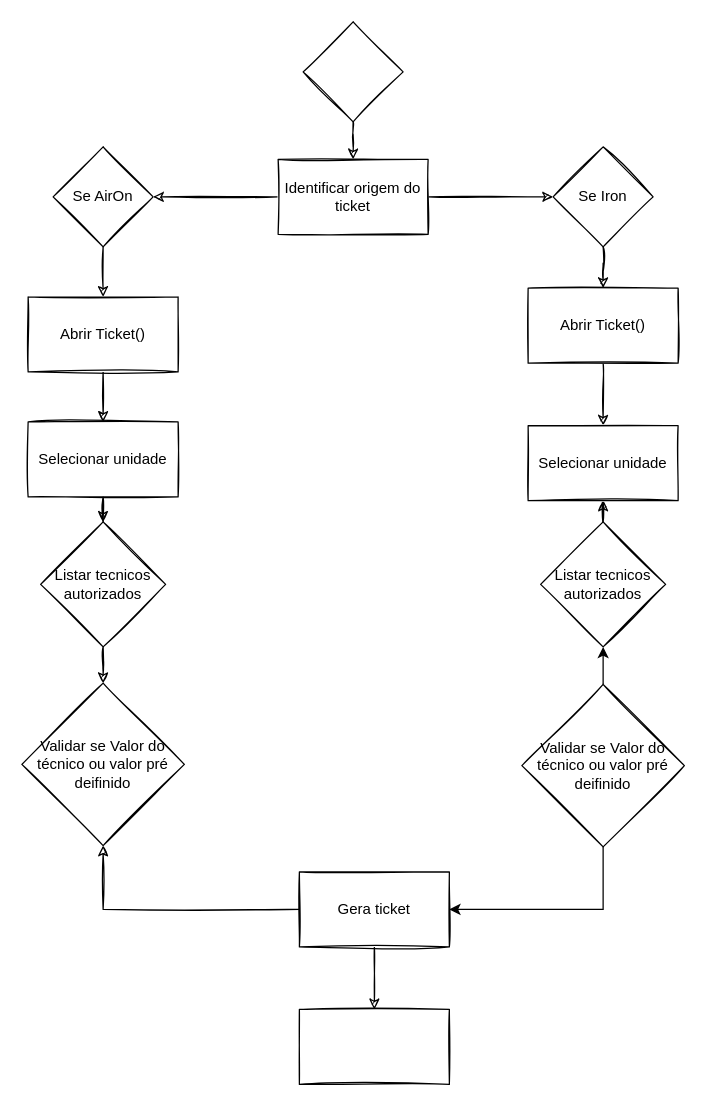
The diagram is 706 pixels wide and 1106 high, and some of its shapes have lost their labels. The shapes that lost their labels are listed below. From the top down, each one's box as (x1, y1, x2, y2) in pixels, then its label:
(302, 21, 403, 122): Novo Ticket
(298, 1008, 449, 1084): Notificar tecnico, contato e usuario
